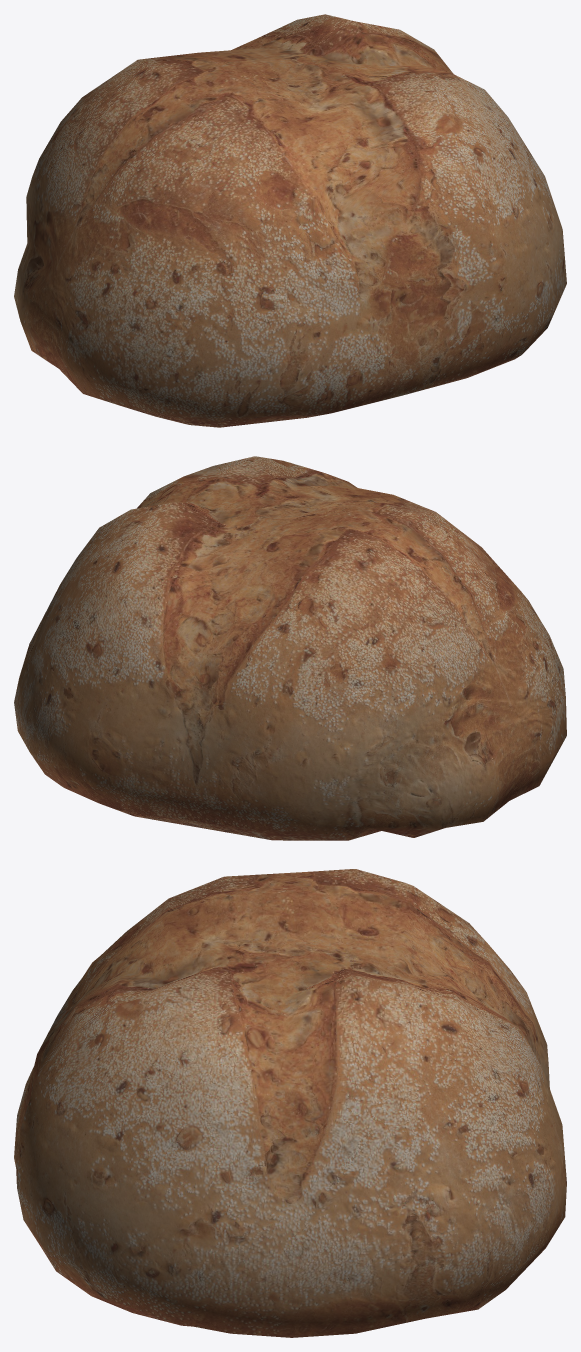
The model's file is Homemade Bread 1.fbx.
The picture shows the model from 3 angles, top to bottom: view 1: azimuth 30°, elevation 25°; view 2: azimuth 150°, elevation 25°; view 3: azimuth 270°, elevation 25°; orthographic projection. The views are drawn at different scales.
Visible parts, largest first — view 1: Homemade Bread; view 2: Homemade Bread; view 3: Homemade Bread.
Boxes of the visible parts, box(x1,y1,x2,y2) form: Homemade Bread: box(14, 14, 566, 427); Homemade Bread: box(14, 456, 566, 840); Homemade Bread: box(14, 869, 566, 1337).
Bounding box in the file's own units: 12.61 × 6.87 × 11.11.
